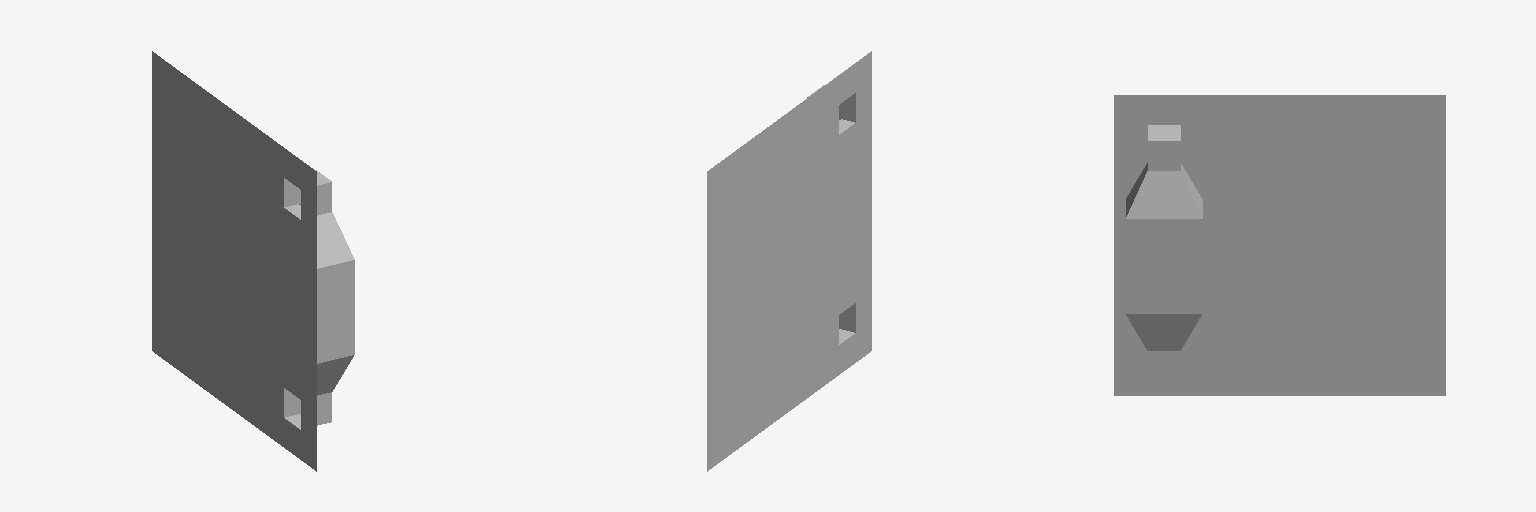
File: 04_Wall_Boiler.obj
3 renders of one model, left to right at view 1: azimuth 30°, elevation 25°; view 2: azimuth 150°, elevation 25°; view 3: azimuth 270°, elevation 25°, orthographic.
Visible parts, largest first — view 1: polySurface6; view 2: polySurface6; view 3: polySurface6.
Part boxes in pixels (x1,y1,x2,y2): polySurface6: (152,51,354,471); polySurface6: (707,51,871,471); polySurface6: (1114,95,1445,395).
Bounding box in the file's own units: 12.09 × 80 × 80.